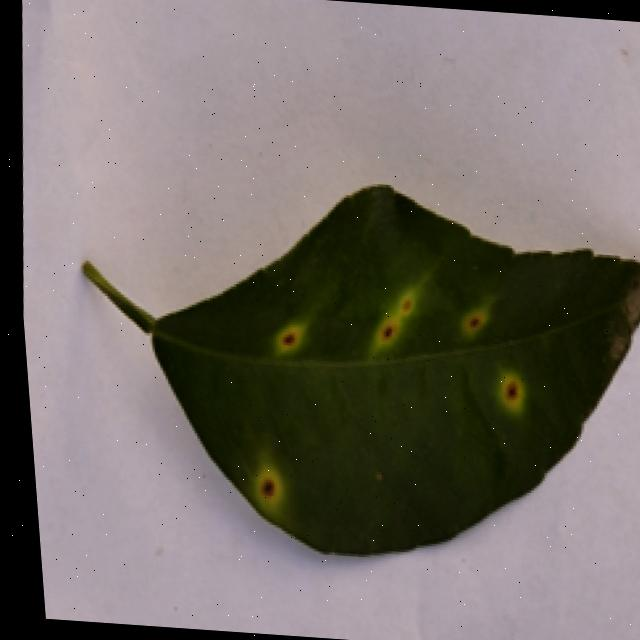canker: (86, 189, 640, 555), (359, 275, 436, 357), (481, 360, 549, 424), (260, 313, 323, 364), (452, 292, 502, 342), (251, 466, 295, 509)
